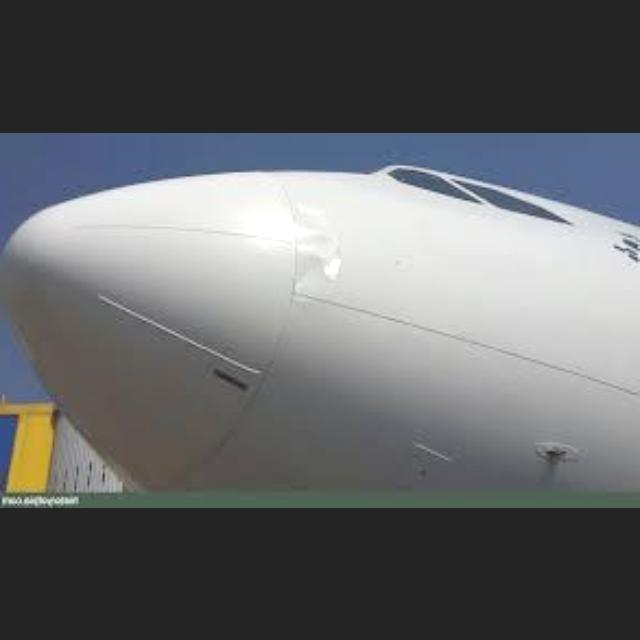dent: (293, 202, 337, 294)
